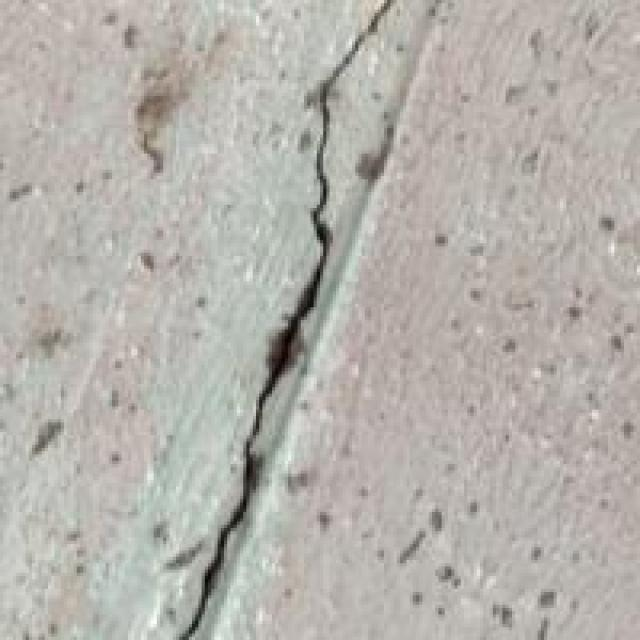Crack: (163, 0, 416, 637)
